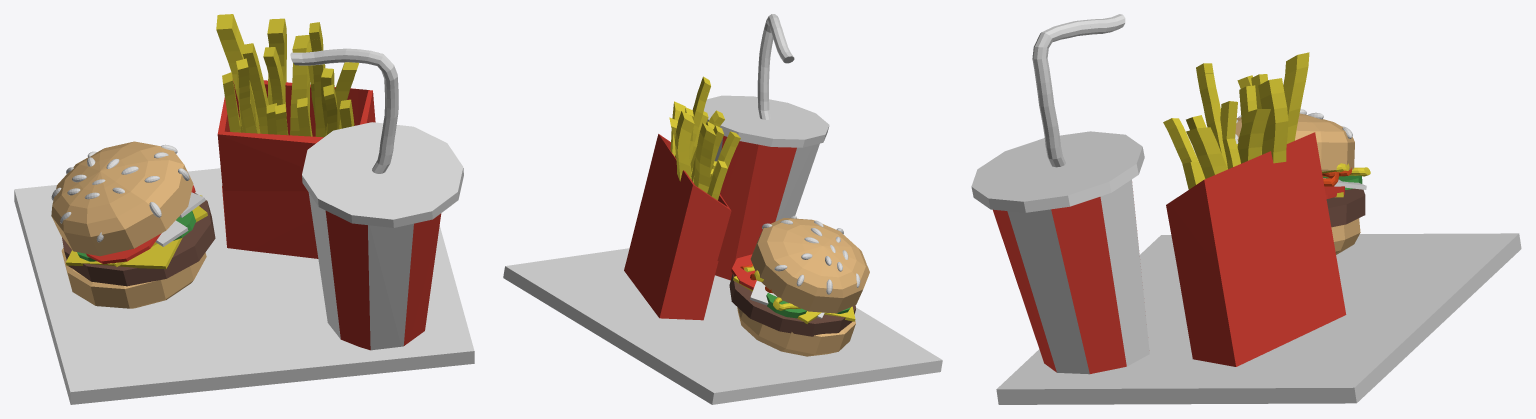
3 renders of one model, left to right at view 1: azimuth 30°, elevation 25°; view 2: azimuth 150°, elevation 25°; view 3: azimuth 270°, elevation 25°, orthographic. The views are drawn at different scales.
Visible parts, largest first — view 1: node_MeshObject-1199653568-PolyPaper21, node_MeshObject-1344860352-PolyPaper21, node_MeshObject-162213440-PolyPaper21; view 2: node_MeshObject-1199653568-PolyPaper21, node_MeshObject-1344860352-PolyPaper21, node_MeshObject-162213440-PolyPaper21; view 3: node_MeshObject-1199653568-PolyPaper21, node_MeshObject-1344860352-PolyPaper21, node_MeshObject-162213440-PolyPaper21.
Boxes of the visible parts, x1,y1,x2,y2 form: node_MeshObject-1199653568-PolyPaper21: (96,14,463,350); node_MeshObject-1344860352-PolyPaper21: (14,168,474,404); node_MeshObject-162213440-PolyPaper21: (51,141,215,308); node_MeshObject-1199653568-PolyPaper21: (624,14,868,323); node_MeshObject-1344860352-PolyPaper21: (503,236,942,404); node_MeshObject-162213440-PolyPaper21: (729,215,869,356); node_MeshObject-1199653568-PolyPaper21: (971,14,1370,374); node_MeshObject-1344860352-PolyPaper21: (996,115,1521,404); node_MeshObject-162213440-PolyPaper21: (1235,109,1365,254).
Bounding box in the file's own units: 0.6536 × 0.4687 × 0.6572.
